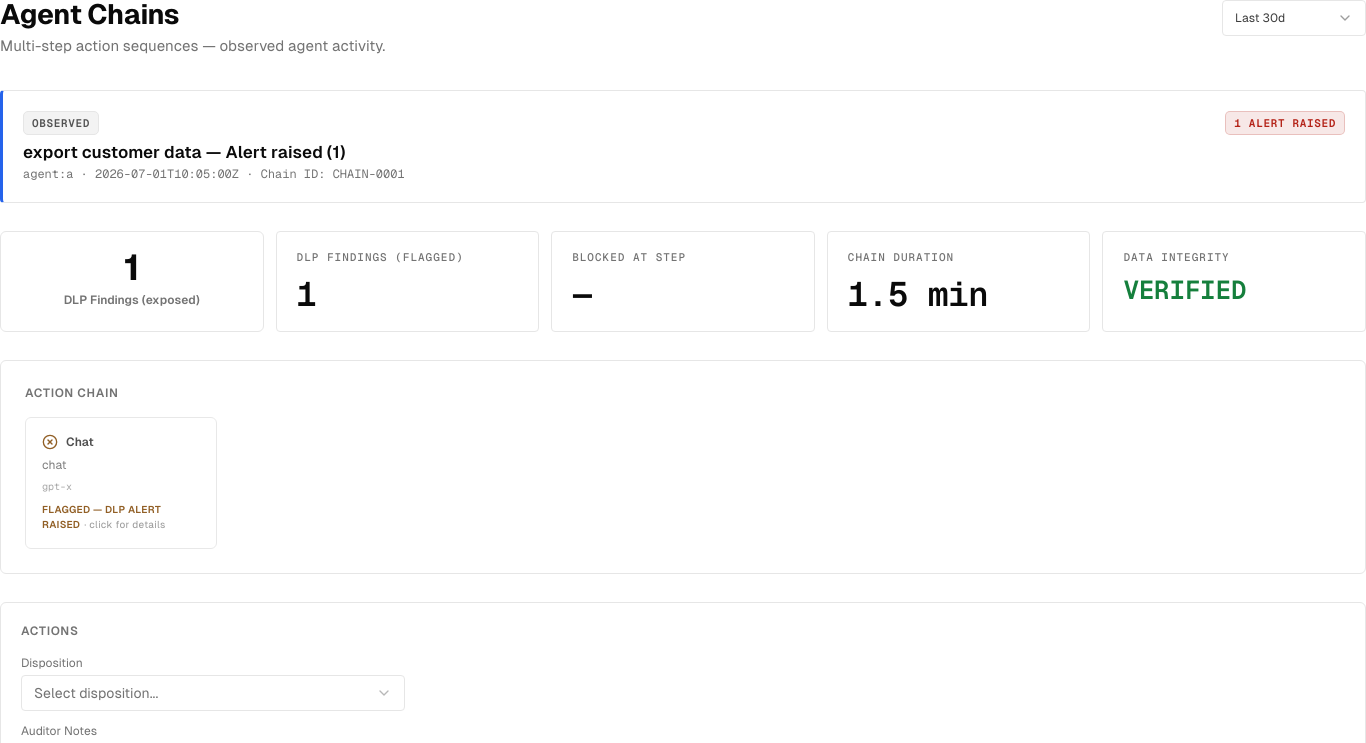
Test: AgentChainsPage — chain detail › shows the alert sheet loading state
Click the text "FLAGGED — DLP alert raised· click for details".
click(104, 517)  # box [42,504,166,530]
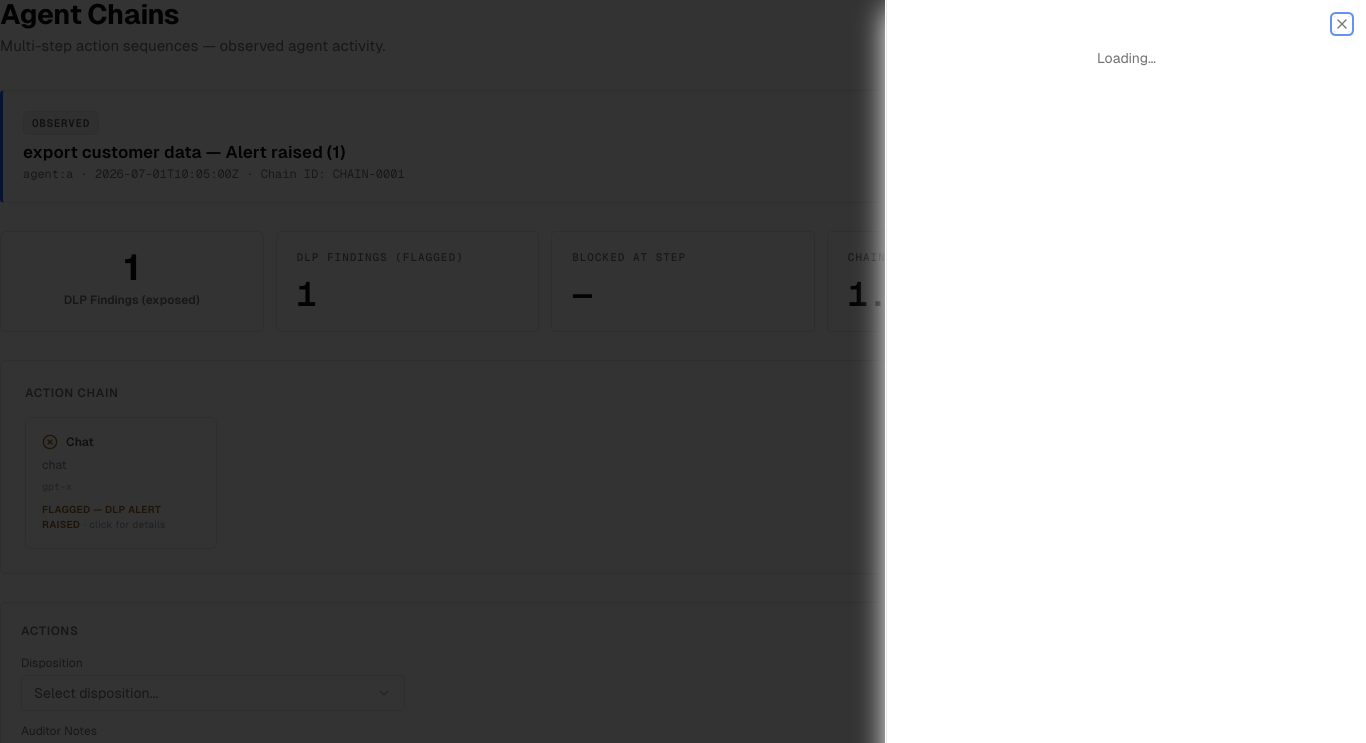
Expected: the text "Loading…" is shown, [1097,50,1156,66]
